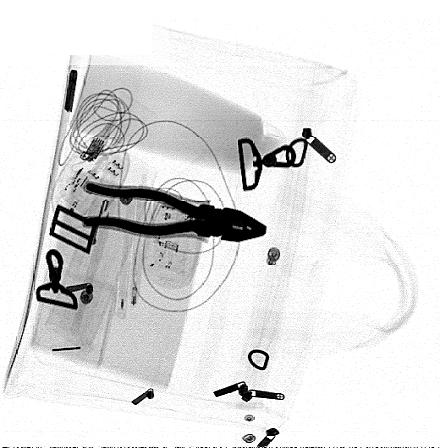Pliers: (79, 180, 269, 244)
